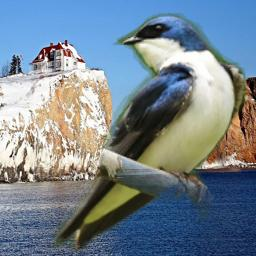Swallow: (52, 13, 247, 252)
